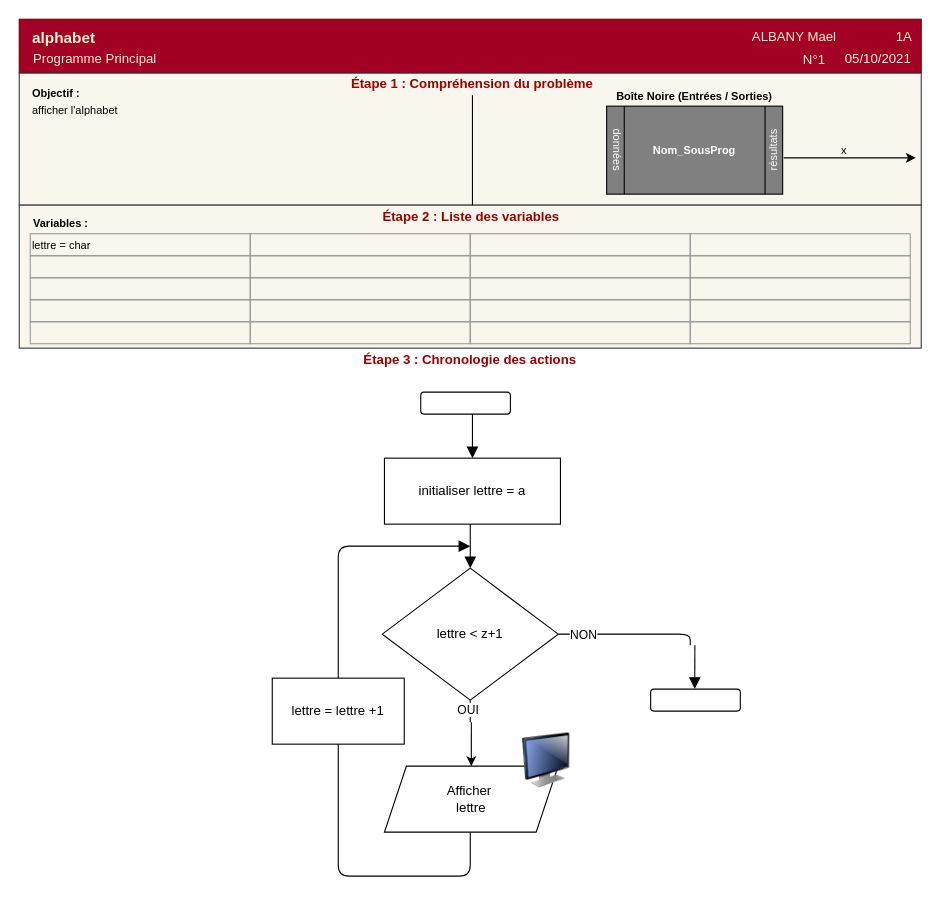
Some shapes in this 944 by 906 pixel diagram are drawn without their labels. The centre of each missing label's shape, as x and y in pixels:
"Début" goes at (465,402).
"Fin" goes at (695,699).
